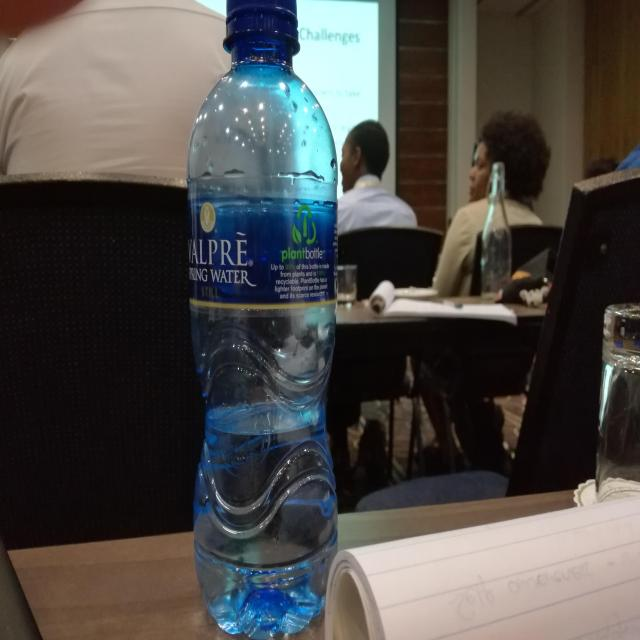bottle: (167, 0, 351, 640)
